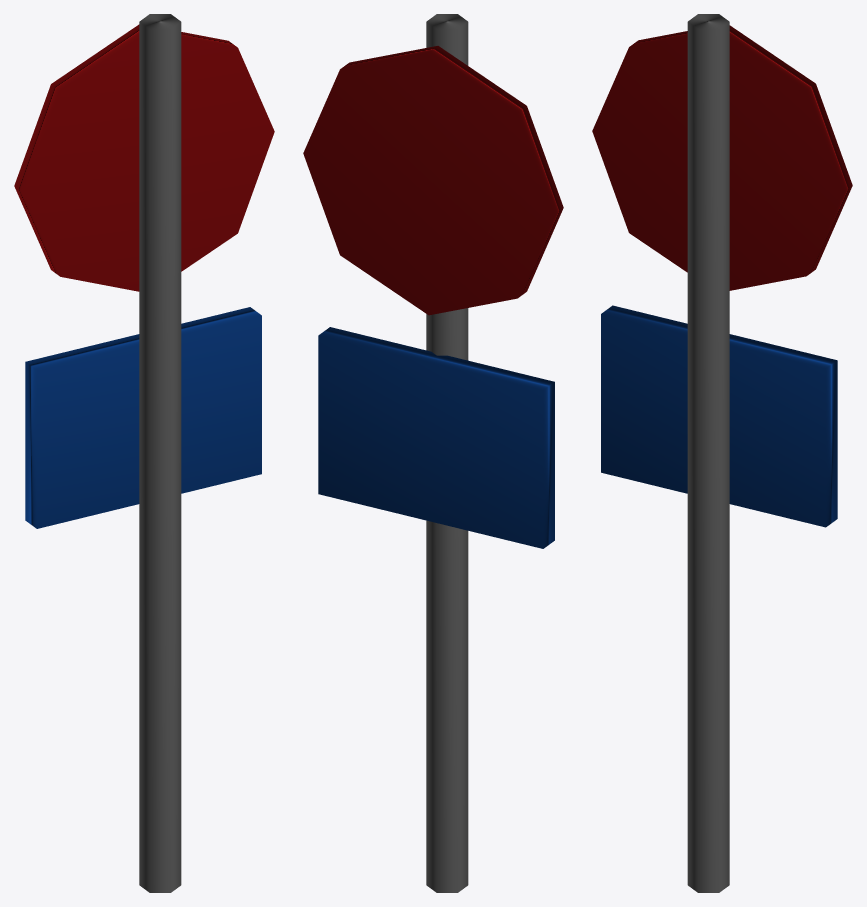
Rendered from CNJ_TrafficSign_SM.fbx.
3 renders of one model, left to right at view 1: azimuth 30°, elevation 25°; view 2: azimuth 150°, elevation 25°; view 3: azimuth 330°, elevation 25°, orthographic.
Parts seen in each view (by area): view 1: CNJ_TrafficSign_SM; view 2: CNJ_TrafficSign_SM; view 3: CNJ_TrafficSign_SM.
Boxes of the visible parts, <box> form: CNJ_TrafficSign_SM: <box>14,14,274,892</box>; CNJ_TrafficSign_SM: <box>303,14,563,892</box>; CNJ_TrafficSign_SM: <box>592,14,852,892</box>.
Size of the model in its own units: 54.71 by 180 by 11.34.
